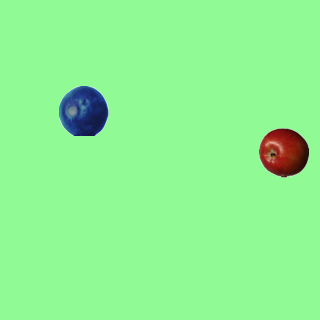Apple Braeburn: (258, 127, 308, 177)
Huckleberry: (58, 85, 108, 135)
